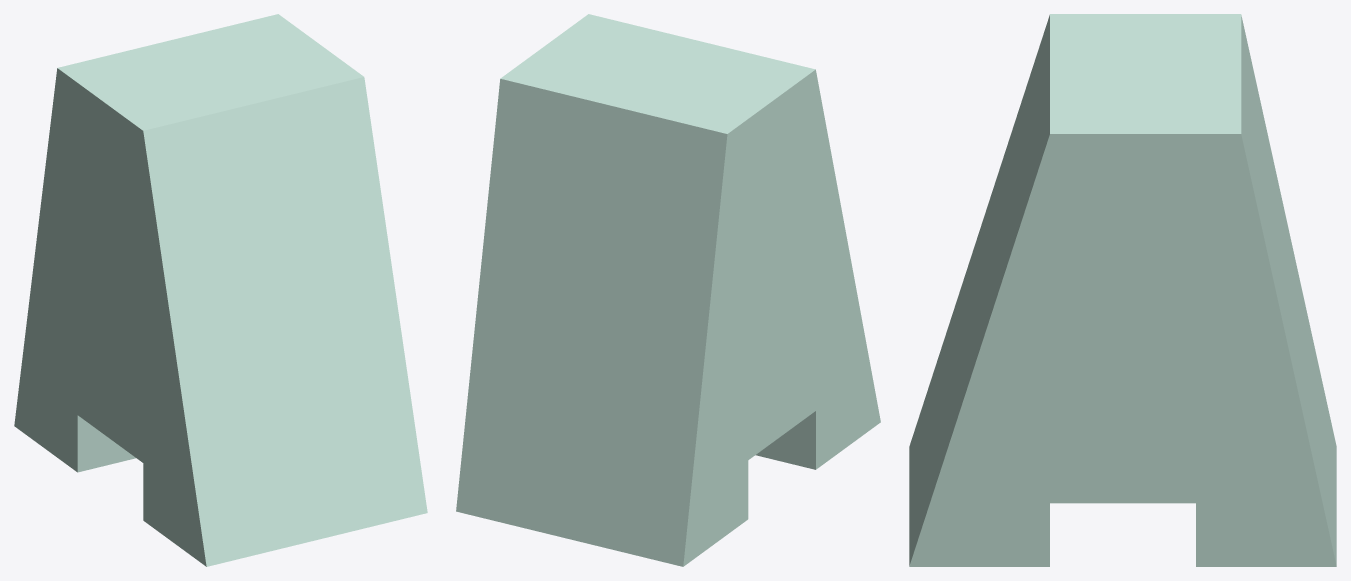
3 views of the same model, side by side, from view 1: azimuth 30°, elevation 25°; view 2: azimuth 150°, elevation 25°; view 3: azimuth 270°, elevation 25° (orthographic). The views are drawn at different scales.
Visible parts, largest first — view 1: Renderer Node; view 2: Renderer Node; view 3: Renderer Node.
Boxes of the visible parts, left/top/right/bottom form: Renderer Node: left=14, top=14, right=427, bottom=566; Renderer Node: left=456, top=14, right=880, bottom=566; Renderer Node: left=909, top=14, right=1336, bottom=566.
Size of the model in its own units: 0.4453 by 0.75 by 0.6711.
